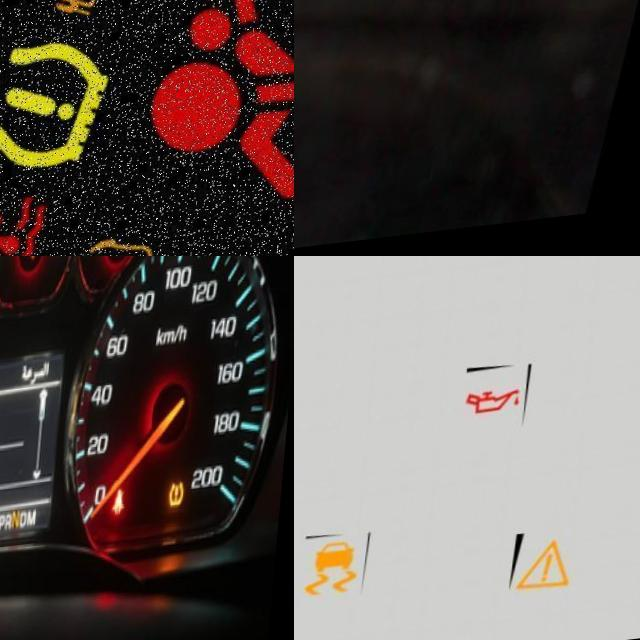Seat Belt: (120, 496, 135, 529)
